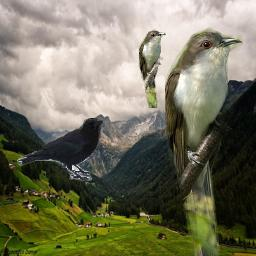Crow: (17, 118, 103, 181)
Cuckoo: (165, 24, 243, 256), (139, 28, 166, 108)
